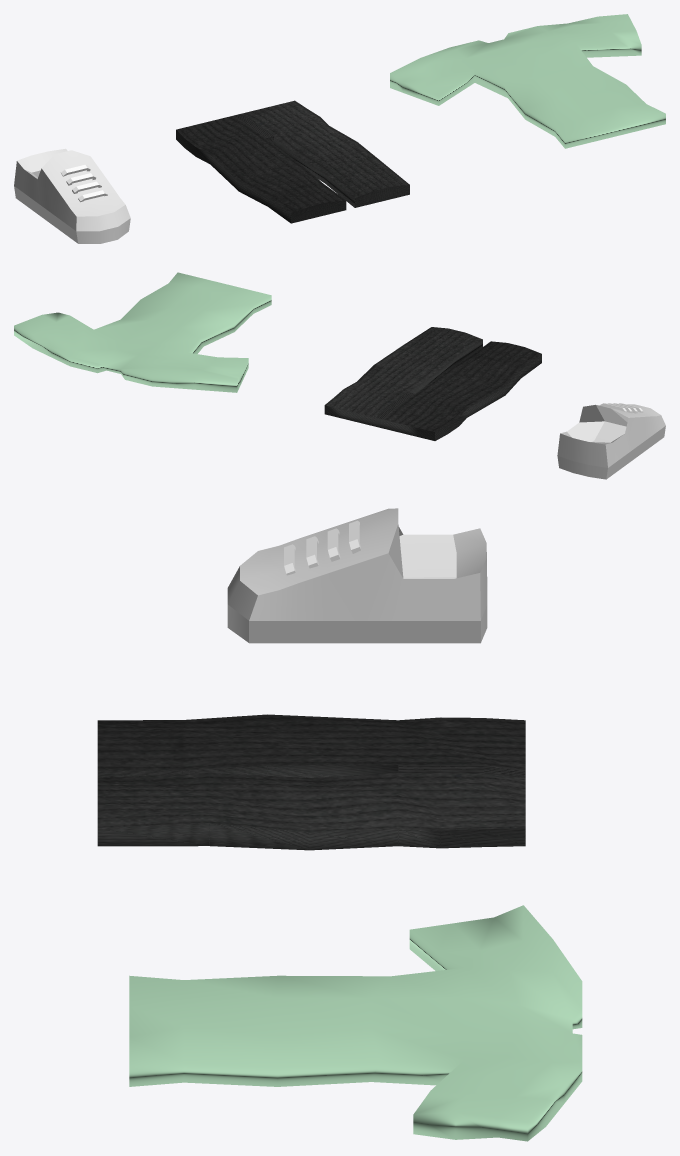
Rendered from RoupasHomem.fbx.
The picture shows the model from 3 angles, top to bottom: view 1: azimuth 30°, elevation 25°; view 2: azimuth 150°, elevation 25°; view 3: azimuth 270°, elevation 25°; orthographic projection. The views are drawn at different scales.
Visible parts, largest first — view 1: Cube.001, Cube, Cube.002, Cube.003, Cube.006; view 2: Cube.001, Cube, Cube.002, Cube.003; view 3: Cube.001, Cube, Cube.002, Cube.003, Cube.006.
Part boxes in pixels (x1,y1,x2,y2): Cube.001: (390, 14, 665, 148); Cube: (176, 100, 409, 223); Cube.002: (14, 148, 130, 231); Cube.003: (14, 186, 130, 243); Cube.006: (61, 164, 107, 202); Cube.001: (14, 272, 271, 392); Cube: (324, 327, 541, 440); Cube.002: (557, 404, 665, 467); Cube.003: (557, 426, 665, 479); Cube.001: (129, 905, 582, 1141); Cube: (97, 714, 525, 850); Cube.002: (227, 508, 487, 620); Cube.003: (227, 604, 487, 643); Cube.006: (284, 520, 360, 575).
Bounding box in the file's own units: 2155 × 184 × 777.
Materials: 3 (1 with a texture image).
